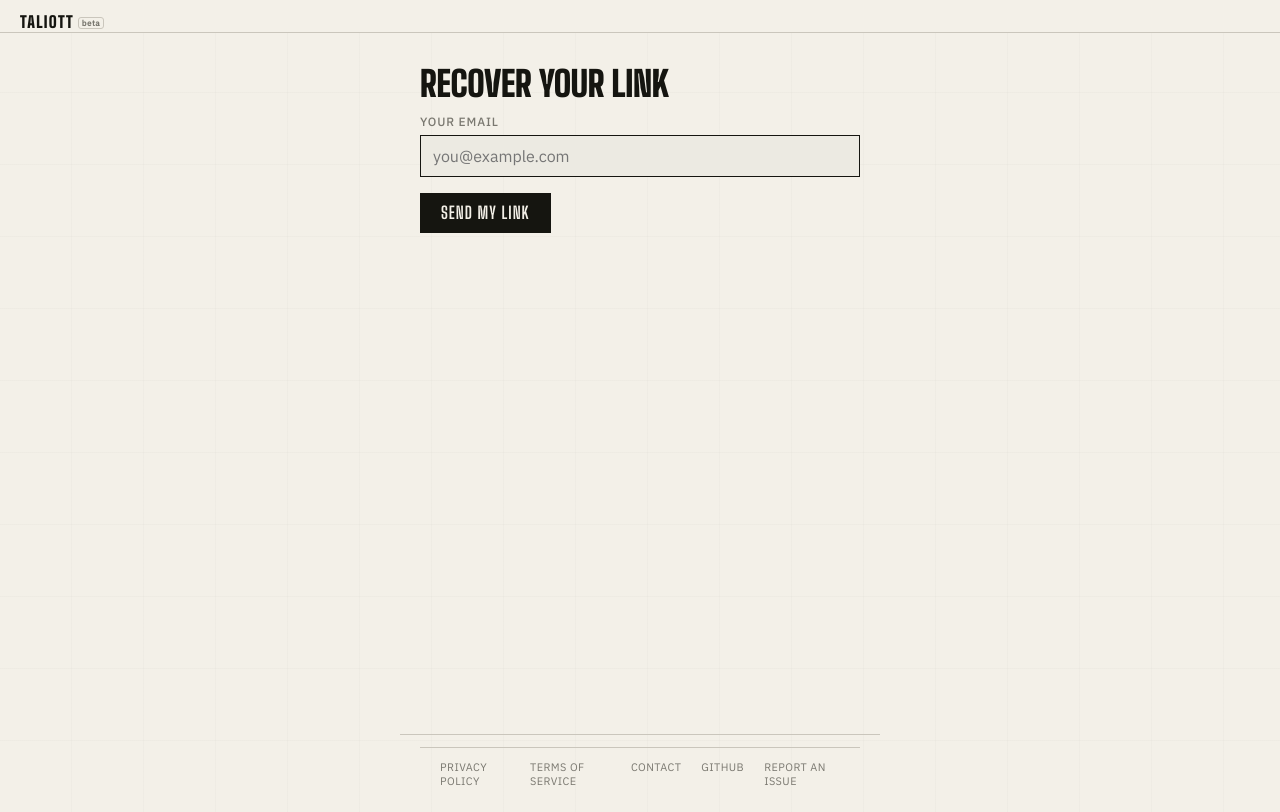
ResendLinkView › shows success status message after successful submit (2xx)
The image size is (1280, 812).
In the field: [640, 156] box [420,134,860,177], type "a@b.com"
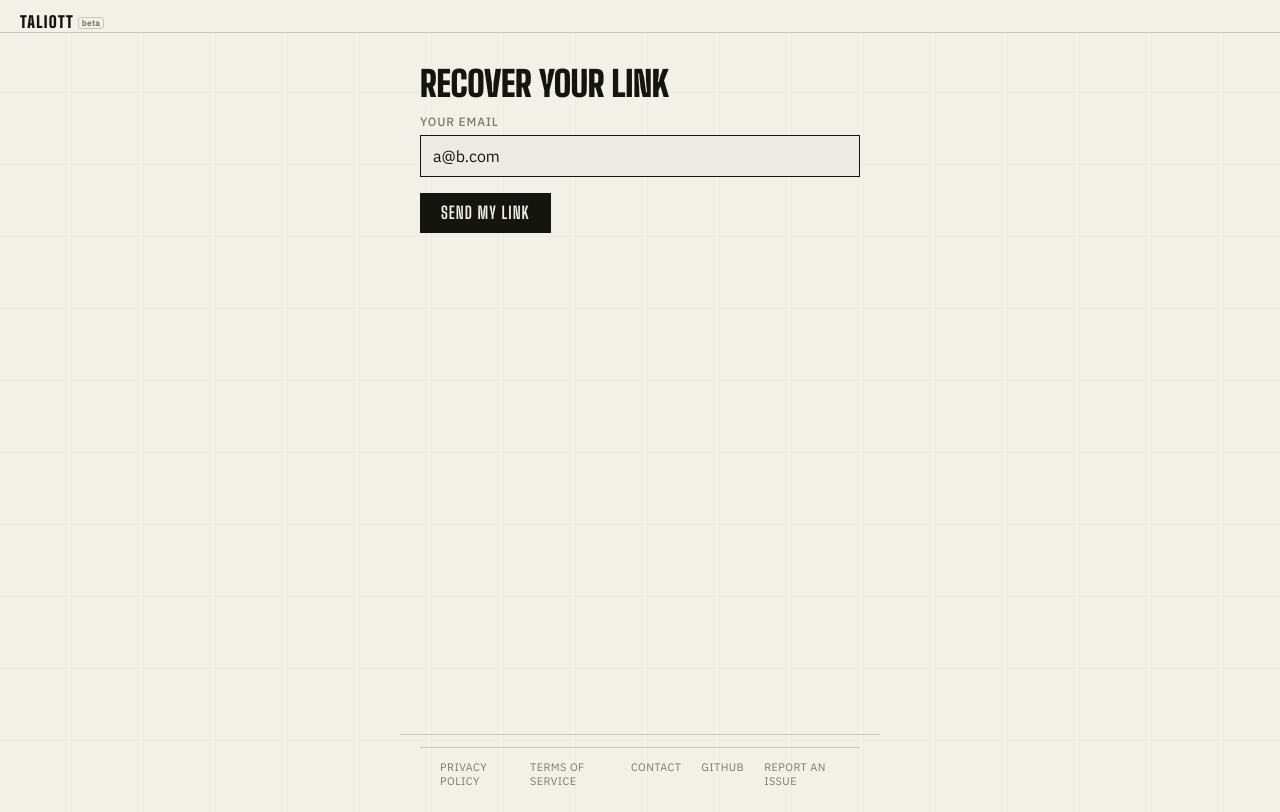
Submit the form named "resend link", box [420,114,860,233]
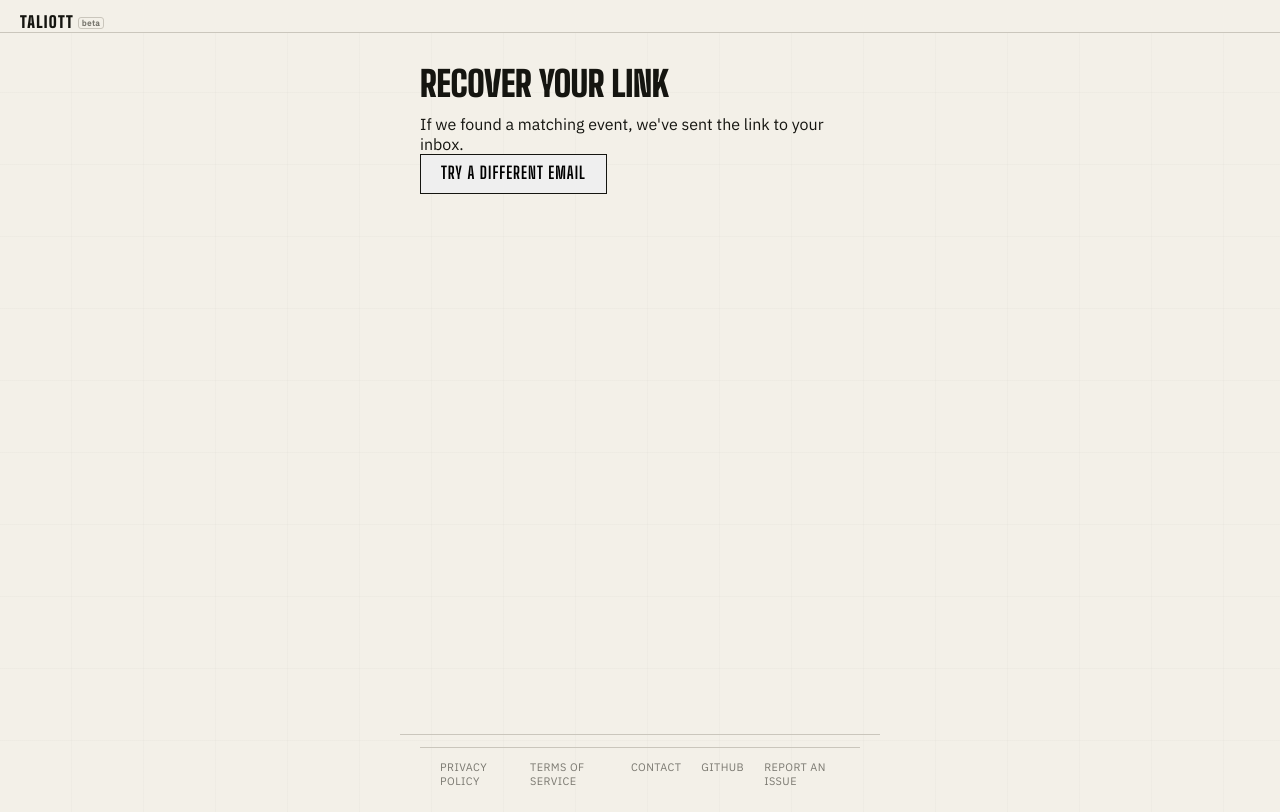
Expected: the message "If we found a matching event, we've sent the link to your inbox." is shown, [420,114,860,154]
Expected: the form is gone
